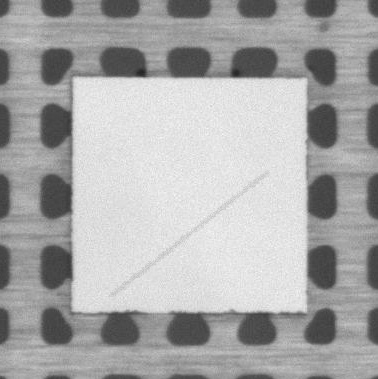DIE_CRACK: (111, 172, 267, 297)
